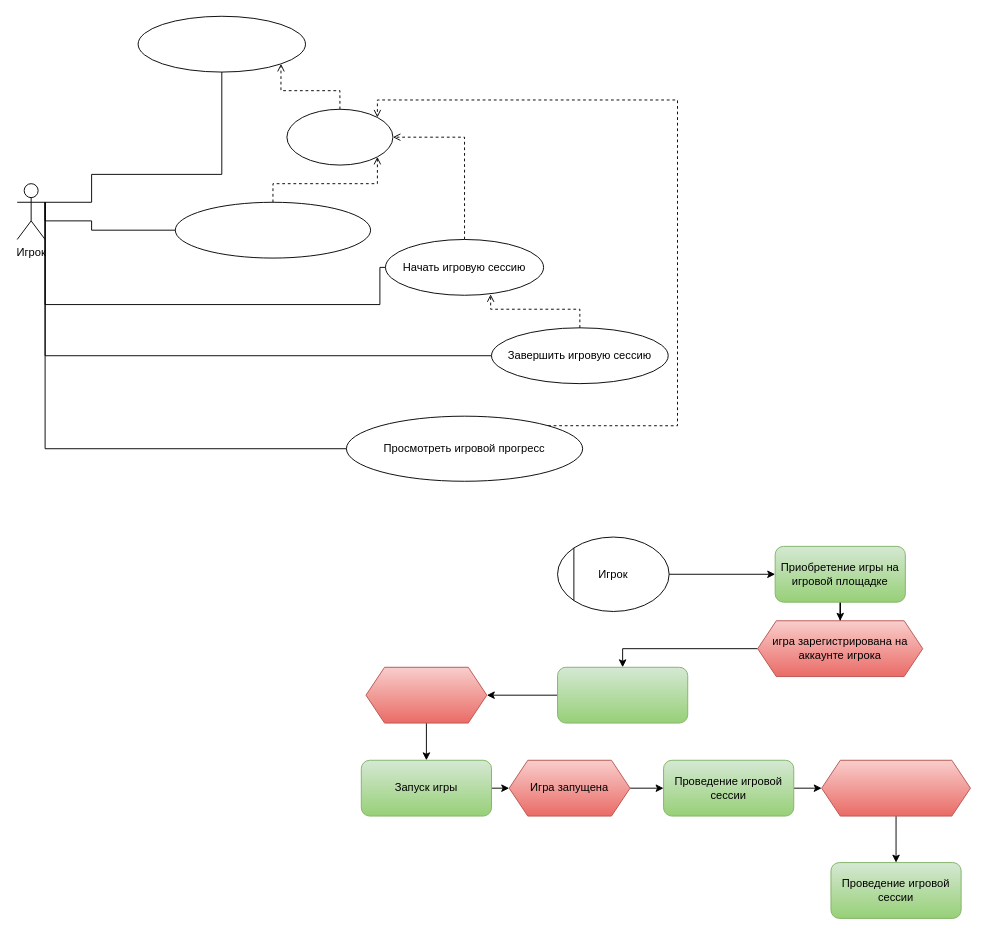
Some shapes in this 987 by 935 pixel diagram are drawn without their labels. The shapes that lost their labels are listed below. From the top down, each one's centre as x and y in pixels, then its label:
the point at 221,43: Залогиниться на игровой площадке
the point at 339,136: Запустить игру
the point at 272,229: Преднастроить игровую сессию
the point at 426,694: игра установлена
the point at 622,694: Установка игры
the point at 895,787: Завершение игровой сессии
